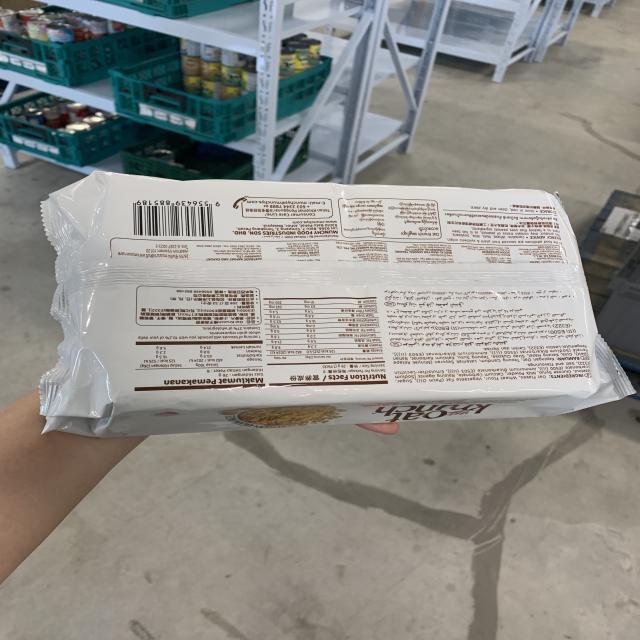object_name: (67, 177, 582, 410)
